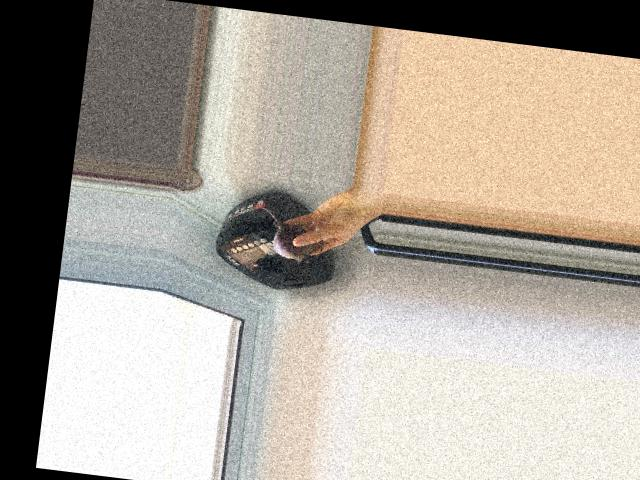beet: (256, 206, 325, 265)
